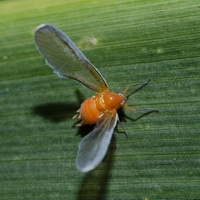insect: (35, 24, 146, 171)
